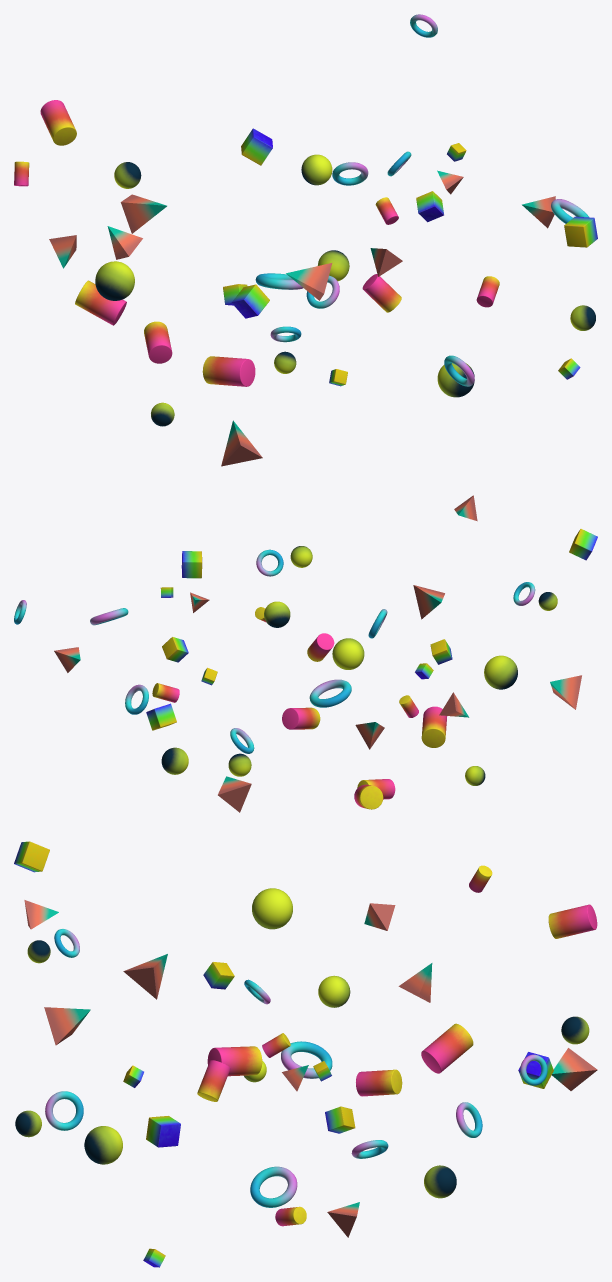
Rendered from formas2.glb.
The picture shows the model from 3 angles, top to bottom: view 1: azimuth 30°, elevation 25°; view 2: azimuth 150°, elevation 25°; view 3: azimuth 270°, elevation 25°; orthographic projection. The views are drawn at different scales.
Parts seen in each view (by area): view 1: Torus.007; view 2: Torus.007; view 3: Torus.007.
Part boxes in pixels (bbox=[...]): Torus.007: bbox=[14, 14, 597, 466]; Torus.007: bbox=[14, 495, 597, 812]; Torus.007: bbox=[14, 841, 597, 1267].
Size of the model in its own units: 118 by 53.55 by 116.
Materials: 5 (5 with a texture image).
